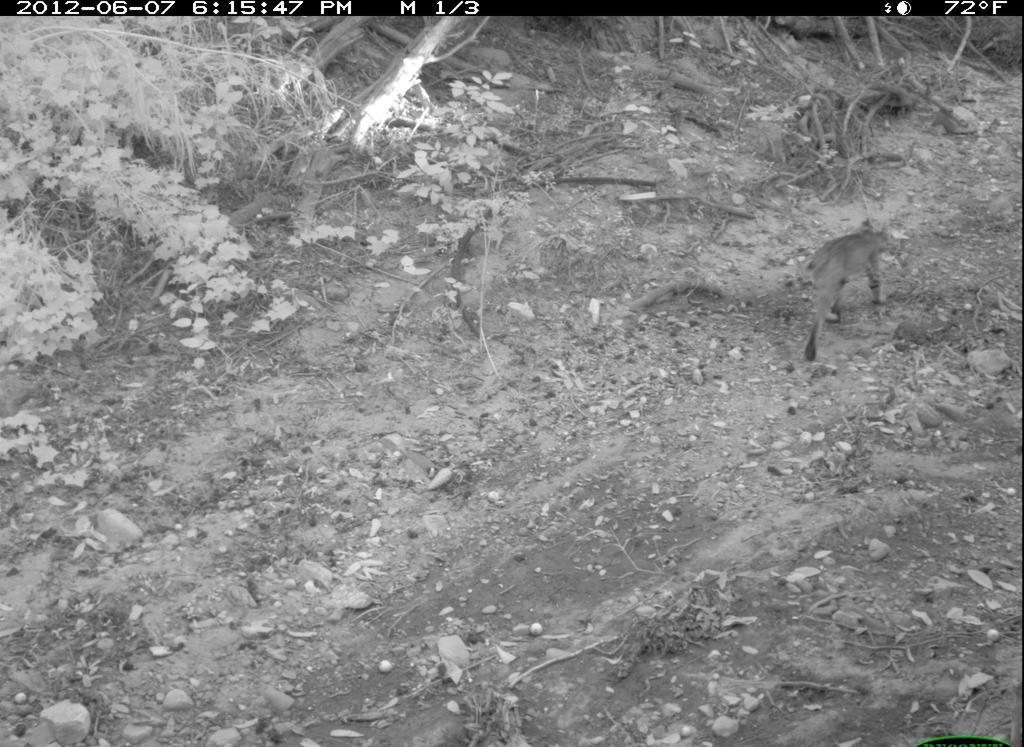bobcat: (770, 209, 929, 364)
